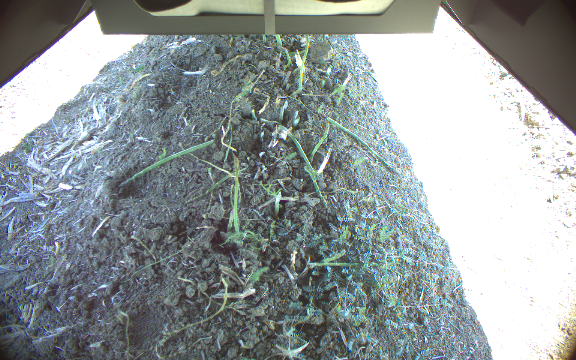aspa: (229, 152, 243, 234), (296, 33, 311, 90), (273, 35, 284, 48), (261, 35, 267, 44)
